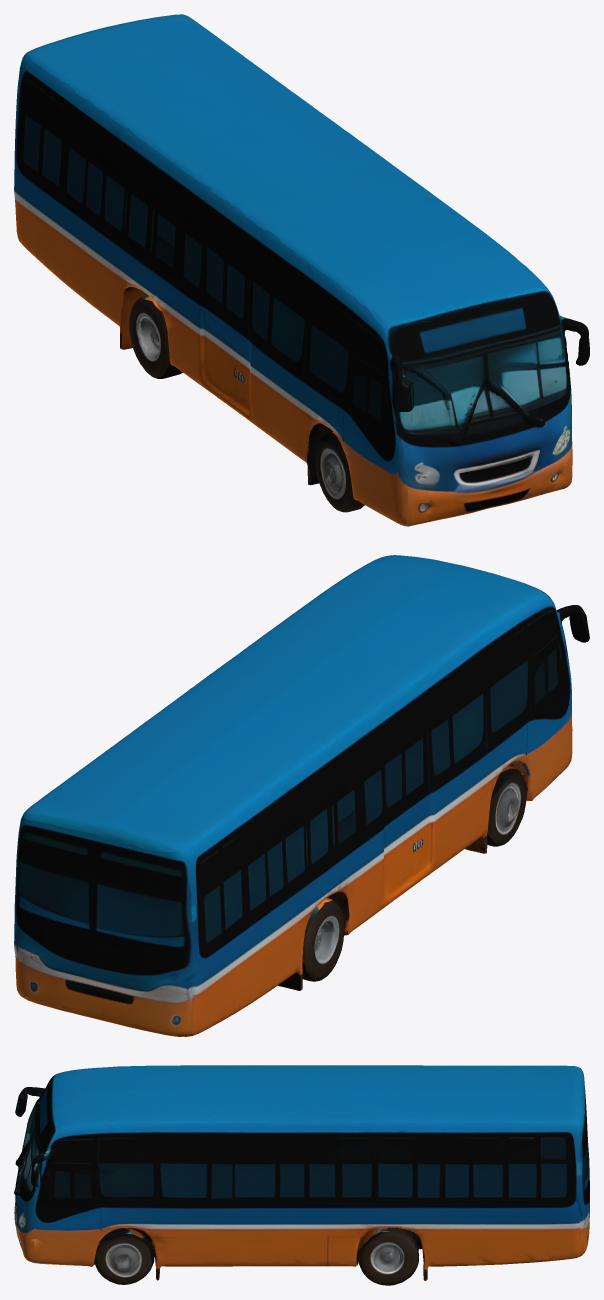
3 renders of one model, top to bottom at view 1: azimuth 30°, elevation 25°; view 2: azimuth 150°, elevation 25°; view 3: azimuth 270°, elevation 25°, orthographic. The views are drawn at different scales.
Parts seen in each view (by area): view 1: textured_mesh; view 2: textured_mesh; view 3: textured_mesh.
Boxes of the visible parts, bbox=[...] form: textured_mesh: bbox=[14, 14, 589, 526]; textured_mesh: bbox=[14, 555, 589, 1036]; textured_mesh: bbox=[14, 1065, 589, 1285].
Bounding box in the file's own units: 0.594 × 0.6404 × 1.99.
Materials: 1 (1 with a texture image).
